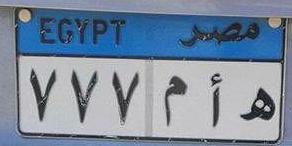7: (25, 62, 62, 126), (67, 63, 101, 125), (109, 66, 142, 125)
alif: (205, 70, 227, 131)
haa: (238, 84, 277, 128)
meem: (159, 71, 188, 130)
